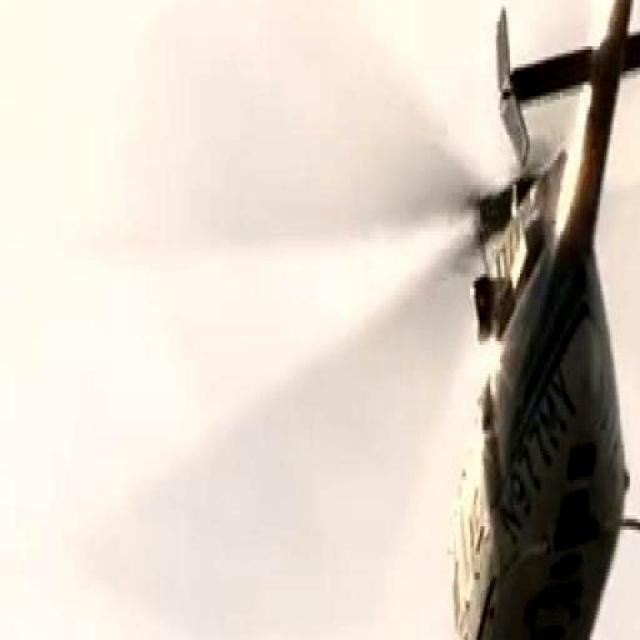drone: (425, 0, 640, 640)
